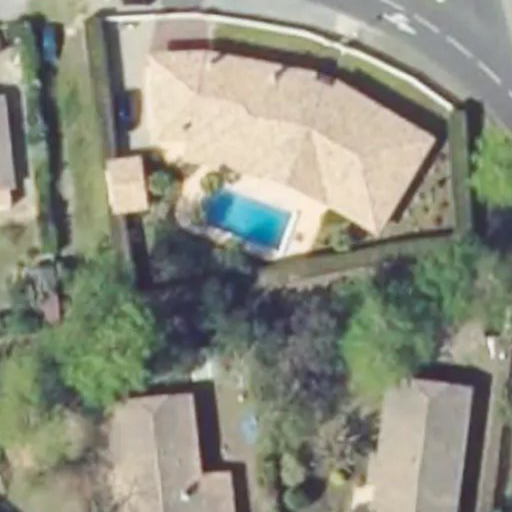pool: (202, 188, 291, 252)
